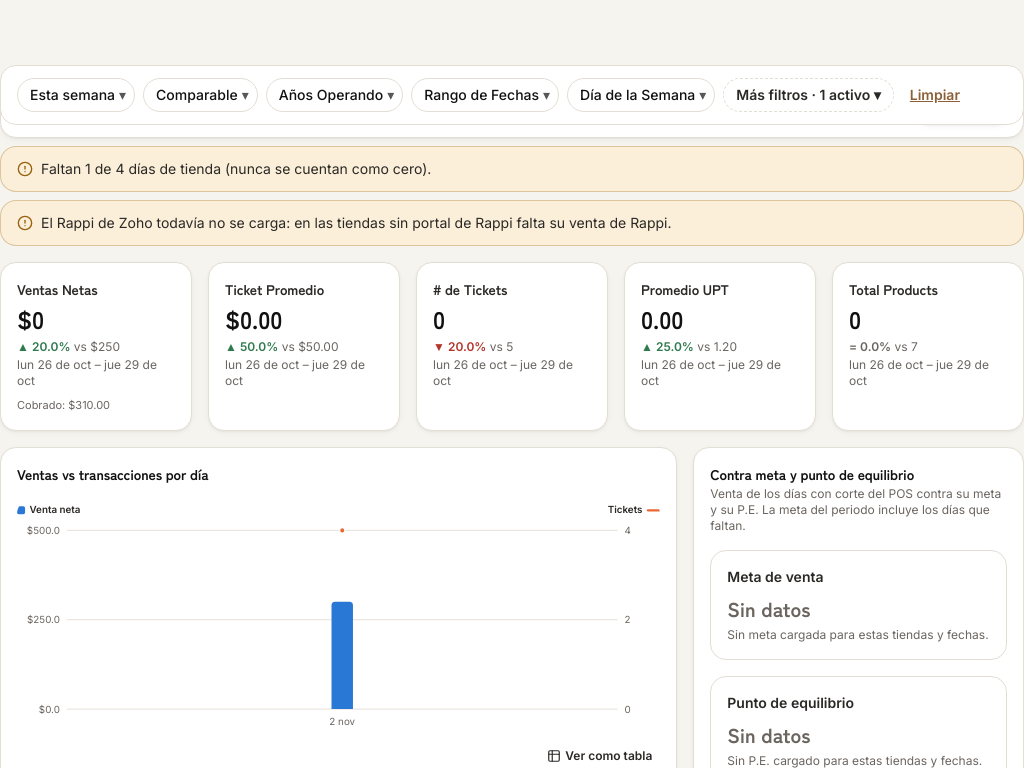
Scenario: <TableroMexico> con datos en todos los bloques › cada gráfica conserva su tabla equivalente con nombre accesible
The width and height of the screenshot is (1024, 768).
Click the heading "Ver como tabla": [600, 756] box [539,744,660,767]
(page scrolled)
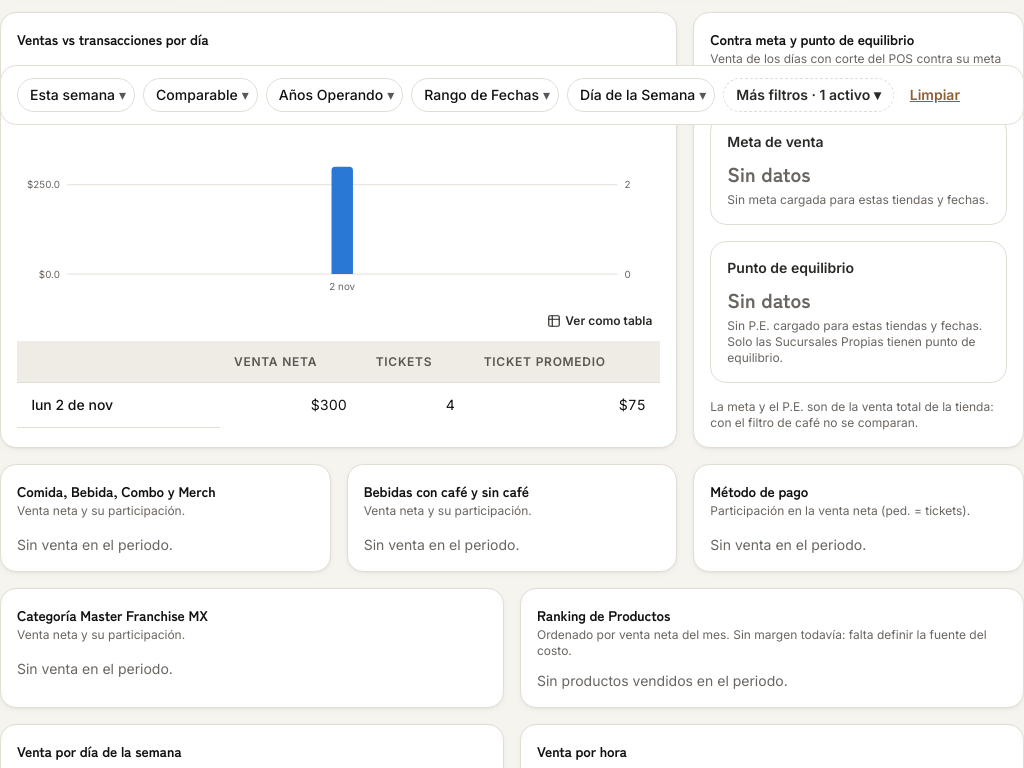
Expected: the table is shown, [17,341,660,428]
